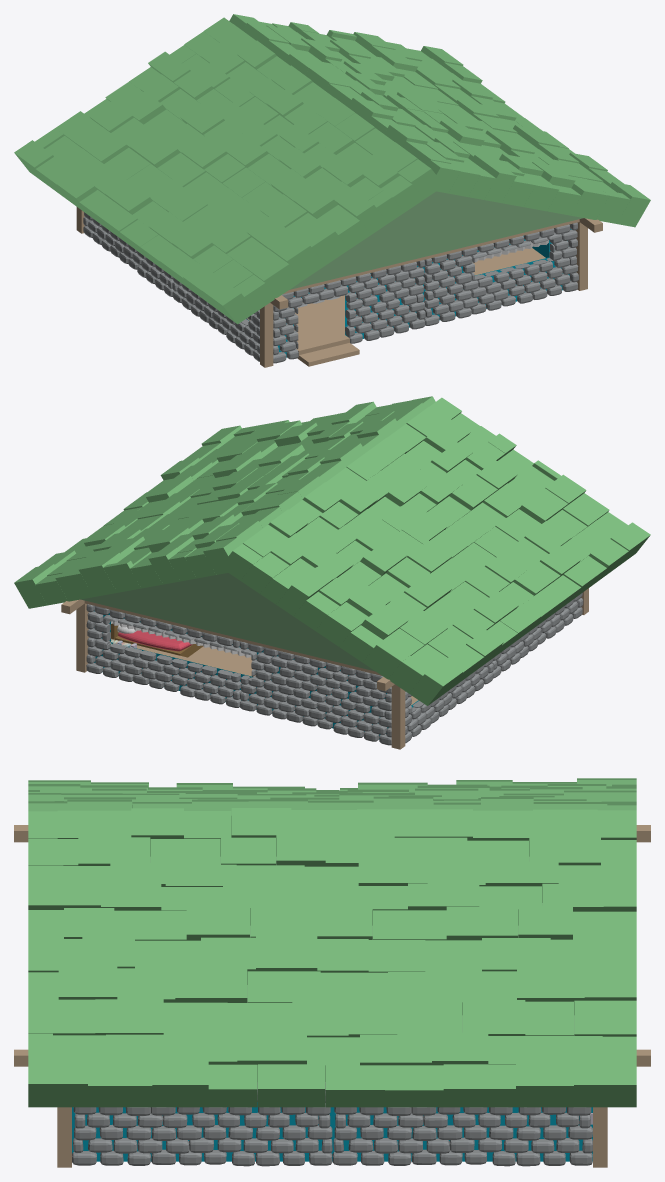
Rendered from house_4.glb.
3 renders of one model, top to bottom at view 1: azimuth 30°, elevation 25°; view 2: azimuth 150°, elevation 25°; view 3: azimuth 270°, elevation 25°, orthographic. The views are drawn at different scales.
Parts seen in each view (by area): view 1: Mesh_Mesh_head_geo.001_lambert2SG.001; view 2: Mesh_Mesh_head_geo.001_lambert2SG.001; view 3: Mesh_Mesh_head_geo.001_lambert2SG.001.
Part boxes in pixels (box(x1,y1,x2,y2)): Mesh_Mesh_head_geo.001_lambert2SG.001: box(14, 14, 650, 367); Mesh_Mesh_head_geo.001_lambert2SG.001: box(14, 396, 650, 749); Mesh_Mesh_head_geo.001_lambert2SG.001: box(14, 778, 650, 1167).
Bounding box in the file's own units: 52.63 × 20 × 46.32.
